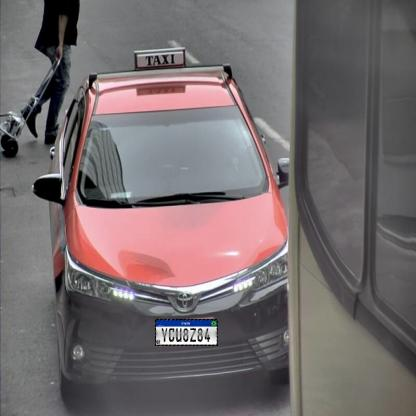PlacaM: (155, 319, 218, 346)
